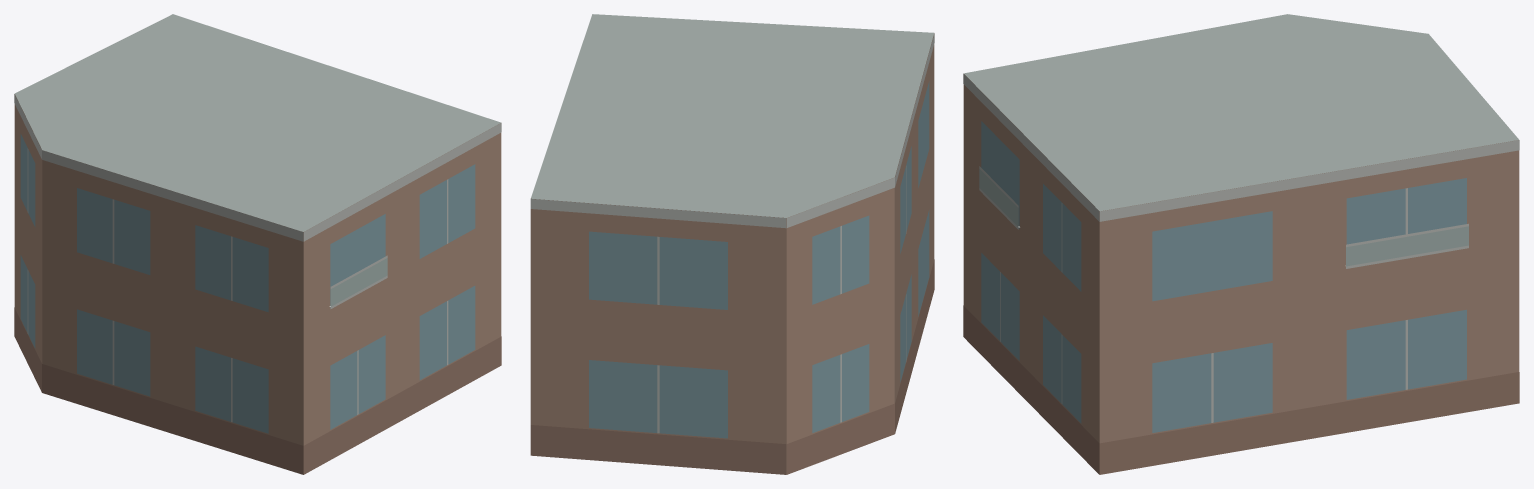
File: survey-upis-32616435.glb
3 views of the same model, side by side, from view 1: azimuth 30°, elevation 25°; view 2: azimuth 150°, elevation 25°; view 3: azimuth 270°, elevation 25° (orthographic). The views are drawn at different scales.
Visible parts, largest first — view 1: survey-upis-32616435.tmp; view 2: survey-upis-32616435.tmp; view 3: survey-upis-32616435.tmp.
Boxes of the visible parts, box(x1,y1,x2,y2) form: survey-upis-32616435.tmp: box(14, 14, 501, 474); survey-upis-32616435.tmp: box(530, 14, 934, 474); survey-upis-32616435.tmp: box(963, 14, 1519, 474).
Size of the model in its own units: 9.81 by 6.1 by 11.67.
